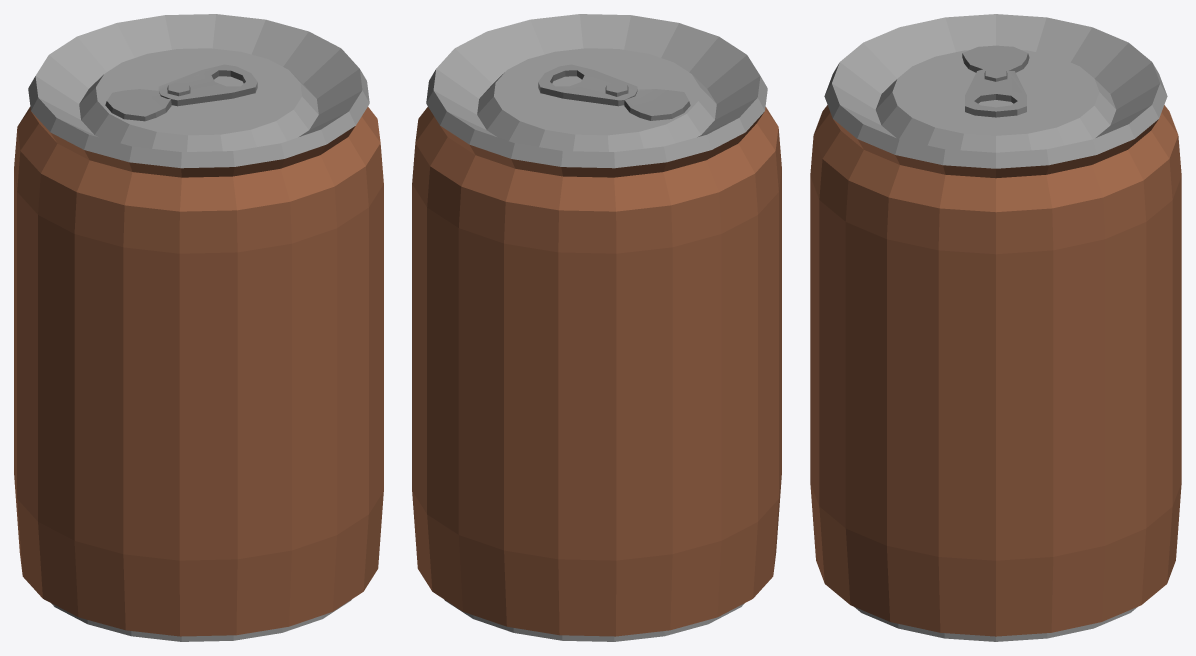
The model's file is Can_04.fbx.
The picture shows the model from 3 angles, left to right: view 1: azimuth 30°, elevation 25°; view 2: azimuth 150°, elevation 25°; view 3: azimuth 270°, elevation 25°; orthographic projection.
Visible parts, largest first — view 1: Can_04; view 2: Can_04; view 3: Can_04.
Part boxes in pixels (box(x1,y1,x2,y2)): Can_04: box(14, 14, 383, 641); Can_04: box(412, 14, 781, 641); Can_04: box(810, 14, 1181, 641).
Size of the model in its own units: 9.52 by 13.81 by 9.52.
